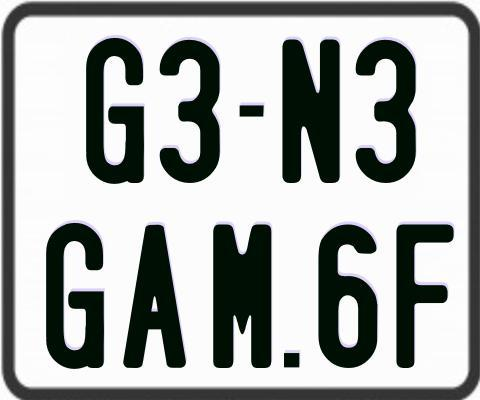3: (160, 37, 226, 186), (356, 38, 419, 187)
6: (316, 224, 377, 372)
A: (122, 225, 189, 371)
F: (396, 222, 457, 368)
G: (43, 220, 107, 369), (84, 36, 148, 182)
M: (210, 221, 270, 371)
N: (282, 37, 343, 187)
